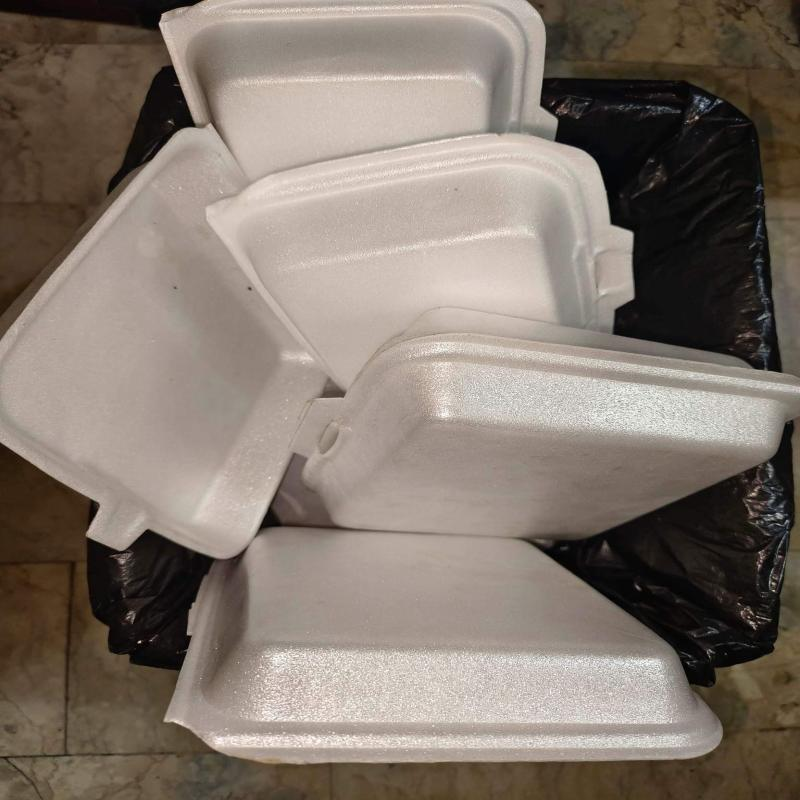styrofoam containers: (0, 125, 328, 562), (162, 527, 723, 764), (288, 308, 800, 542), (207, 135, 635, 394), (158, 0, 559, 182)
